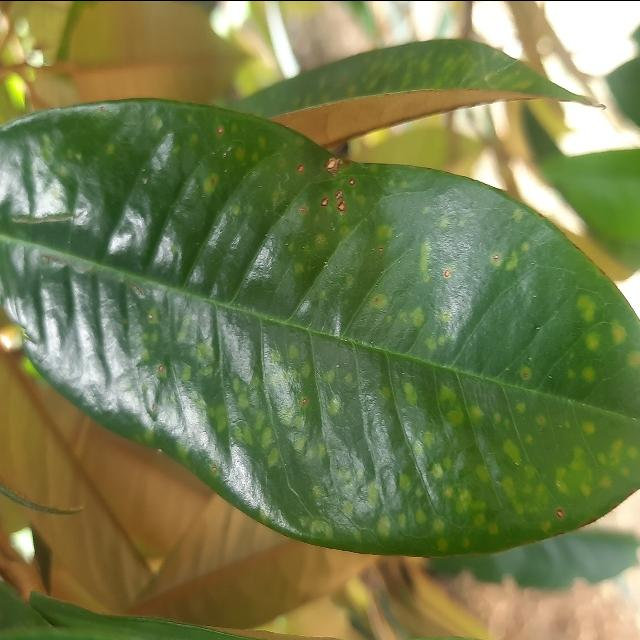Leaf Spot: (0, 93, 640, 561)
